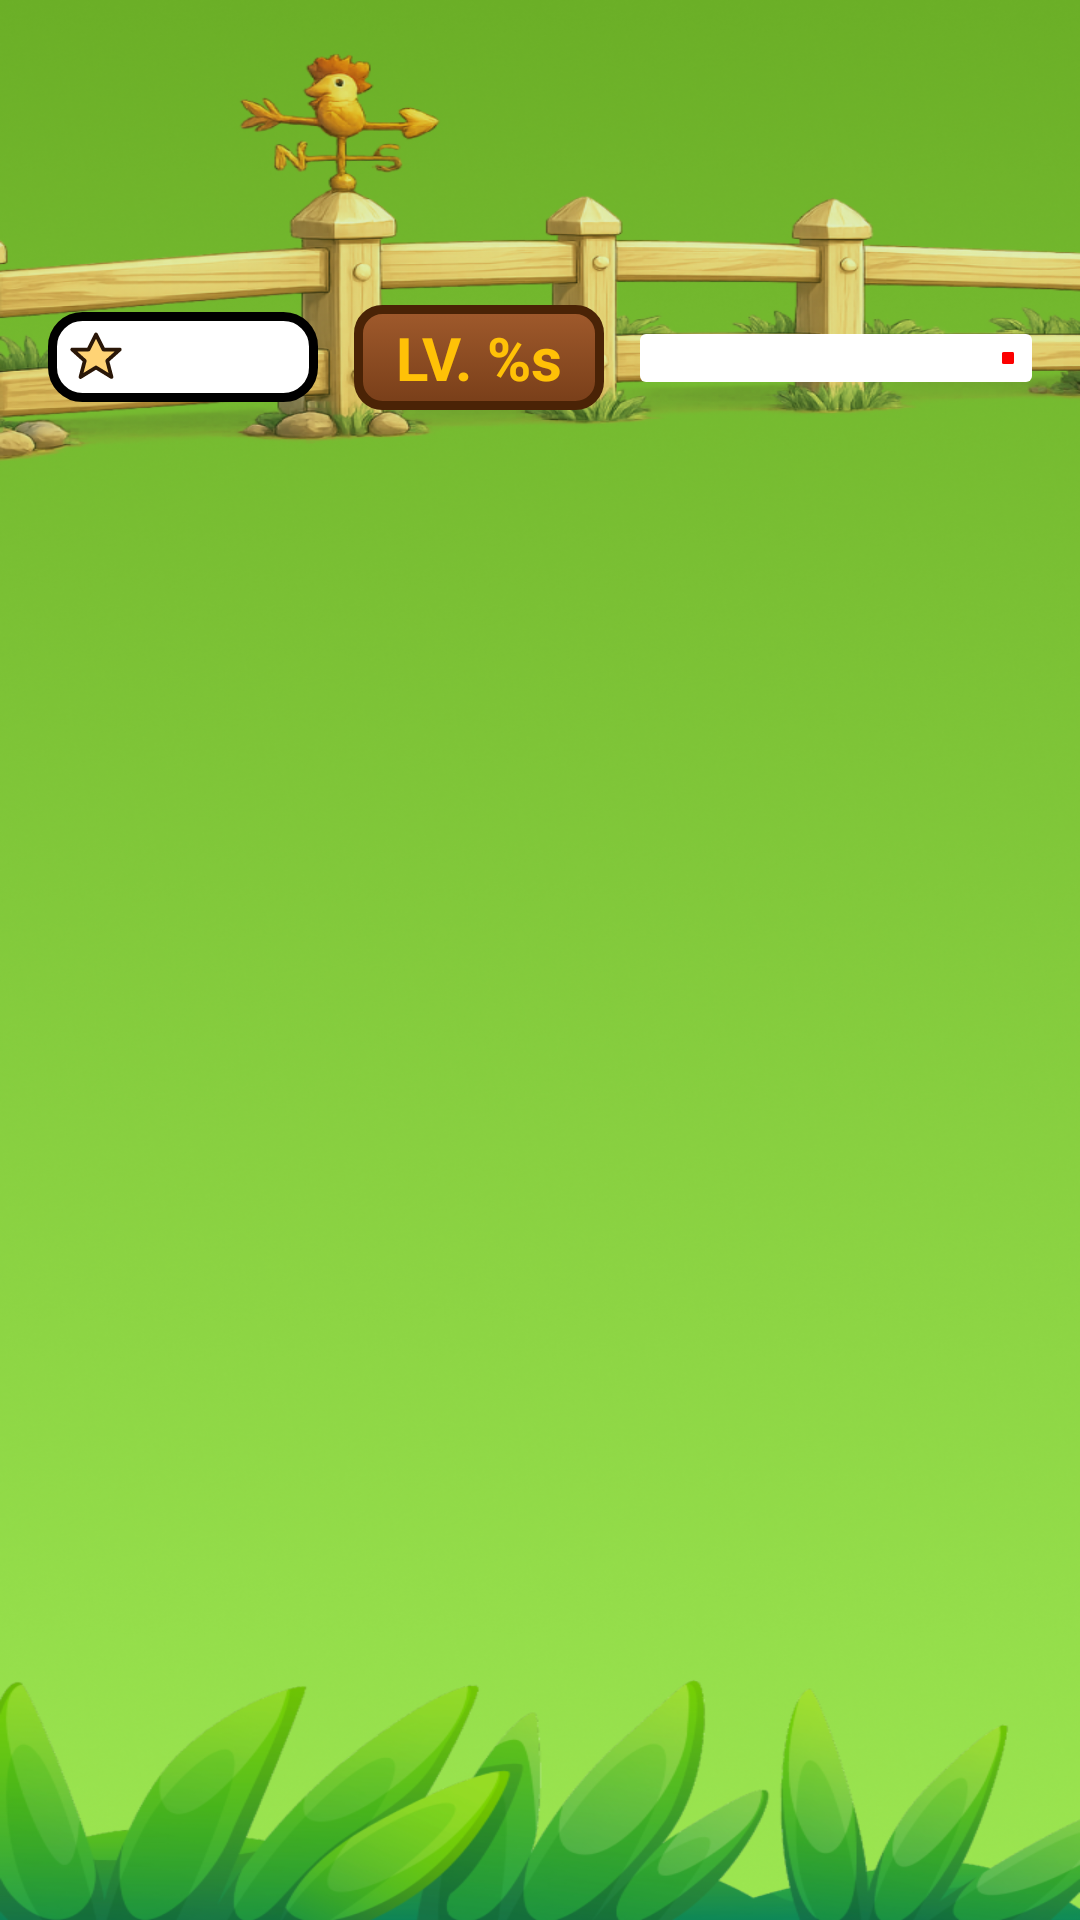

Icons on this 1080×1920 Android screen, each with its box as {"left": x1, "top": y1, "right": x2, "bottom": y2}:
star: {"left": 70, "top": 332, "right": 122, "bottom": 379}
